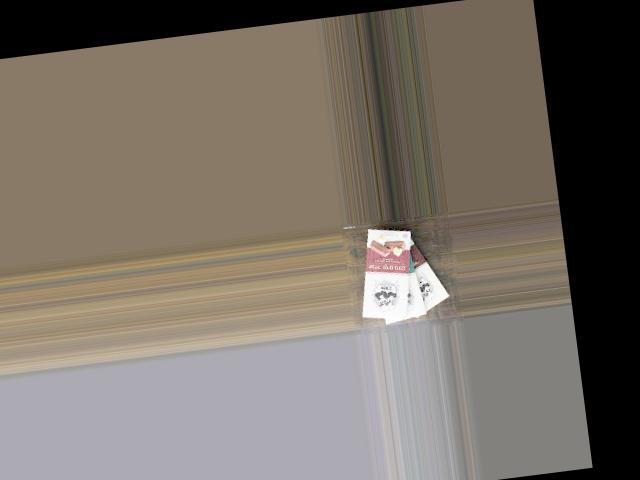chocolate: (381, 220, 452, 323)
